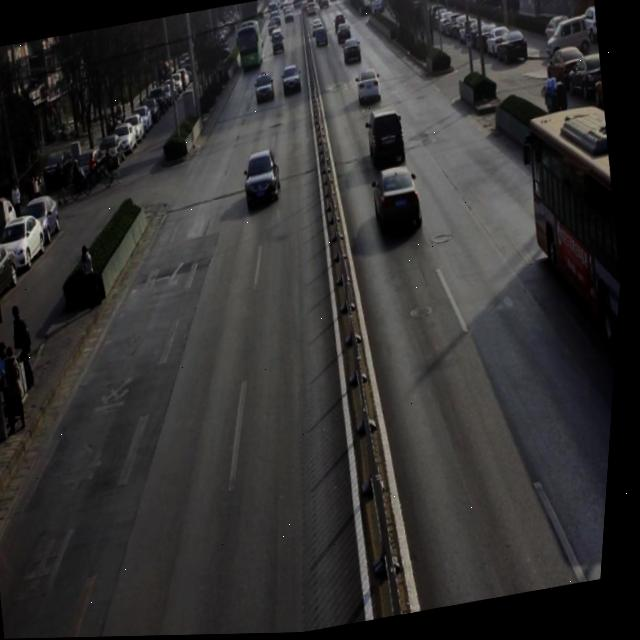car: (370, 161, 430, 238), (362, 105, 414, 169), (240, 147, 289, 209), (355, 68, 387, 106), (253, 69, 278, 105), (281, 64, 304, 97), (341, 34, 365, 65)
truck: (269, 30, 288, 57)
van: (514, 100, 634, 373)
